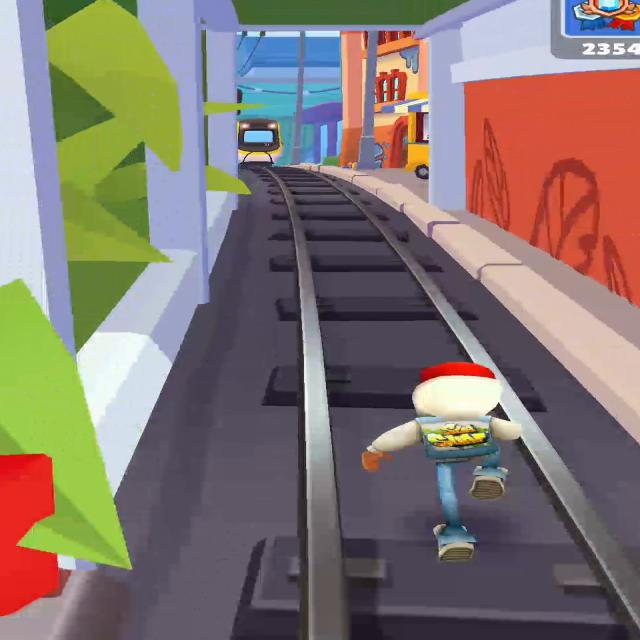block pillar: (0, 0, 249, 524)
train: (239, 118, 280, 159)
